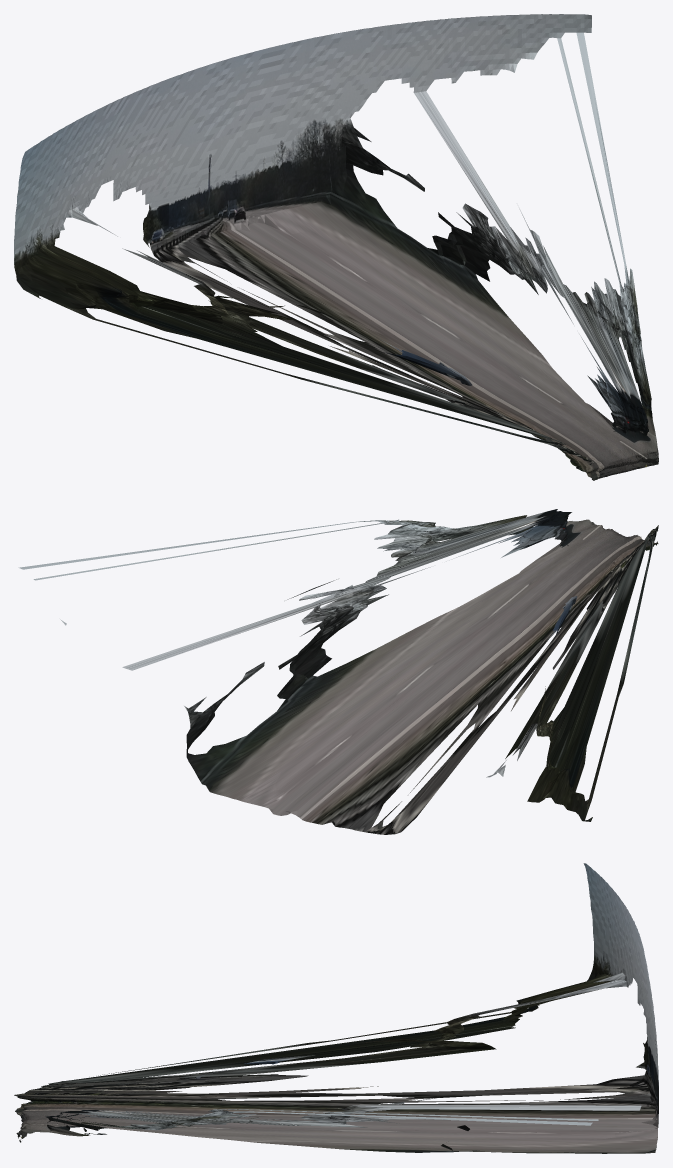
3 views of the same model, one above another, from view 1: azimuth 30°, elevation 25°; view 2: azimuth 150°, elevation 25°; view 3: azimuth 270°, elevation 25° (orthographic). The views are drawn at different scales.
Visible parts, largest first — view 1: defaultobject; view 2: defaultobject; view 3: defaultobject.
Part boxes in pixels (<box>): defaultobject: <box>14,14,658,480</box>; defaultobject: <box>18,509,658,834</box>; defaultobject: <box>14,863,658,1153</box>.
Size of the model in its own units: 40.92 by 12.39 by 44.59.
Materials: 1 (1 with a texture image).
